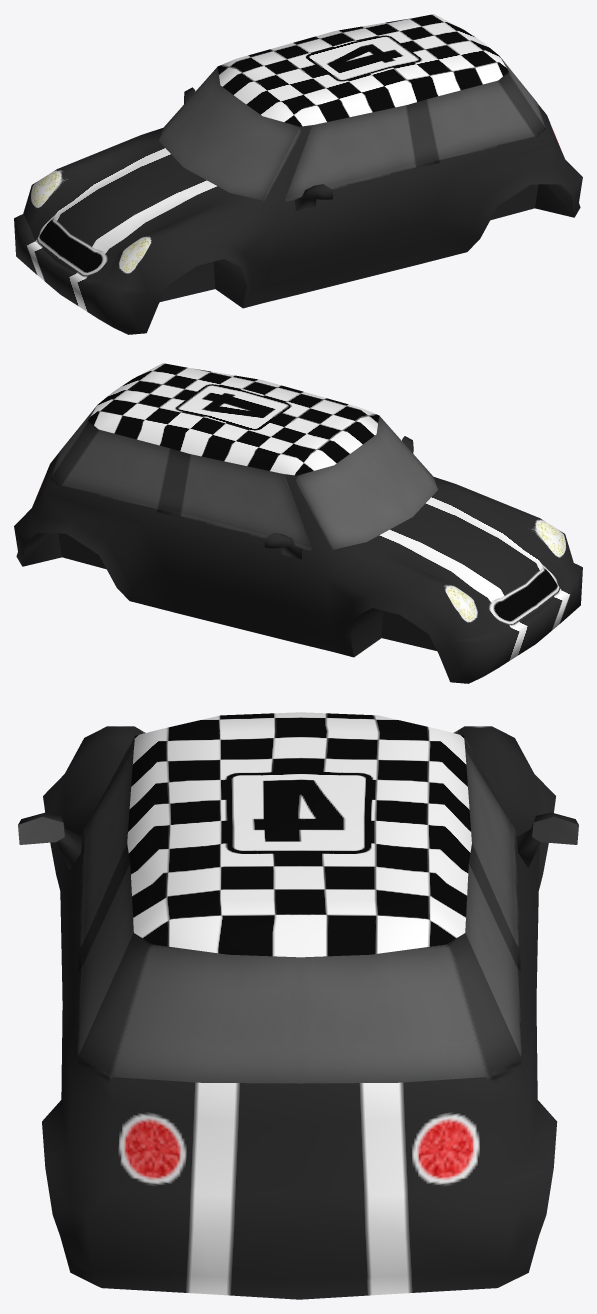
File: mini.glb
The picture shows the model from 3 angles, top to bottom: view 1: azimuth 30°, elevation 25°; view 2: azimuth 150°, elevation 25°; view 3: azimuth 270°, elevation 25°; orthographic projection. The views are drawn at different scales.
Parts seen in each view (by area): view 1: obj1, obj0, obj2; view 2: obj1, obj0, obj2; view 3: obj1, obj0.
Part boxes in pixels (<box>): obj1: <box>14,14,582,334</box>; obj0: <box>159,57,544,200</box>; obj2: <box>160,184,574,308</box>; obj1: <box>14,363,582,683</box>; obj0: <box>52,406,437,549</box>; obj2: <box>22,533,436,657</box>; obj1: <box>18,712,578,1299</box>; obj0: <box>18,752,578,1083</box>.
Size of what is drawn, in the model's own units: 3.37 by 1.14 by 1.68.
3 materials, 3 textured.
